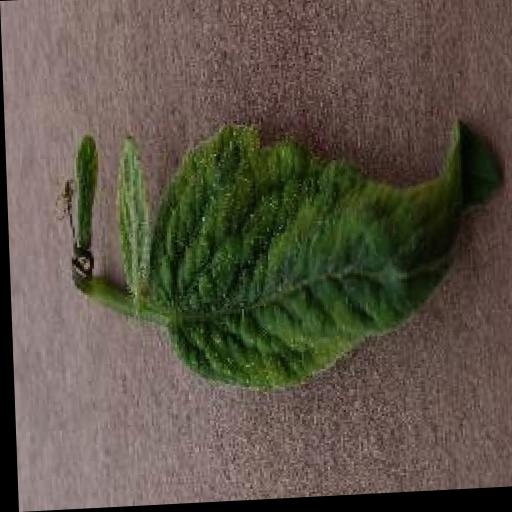Yellow Leaf Curl Virus: (151, 112, 509, 393)
